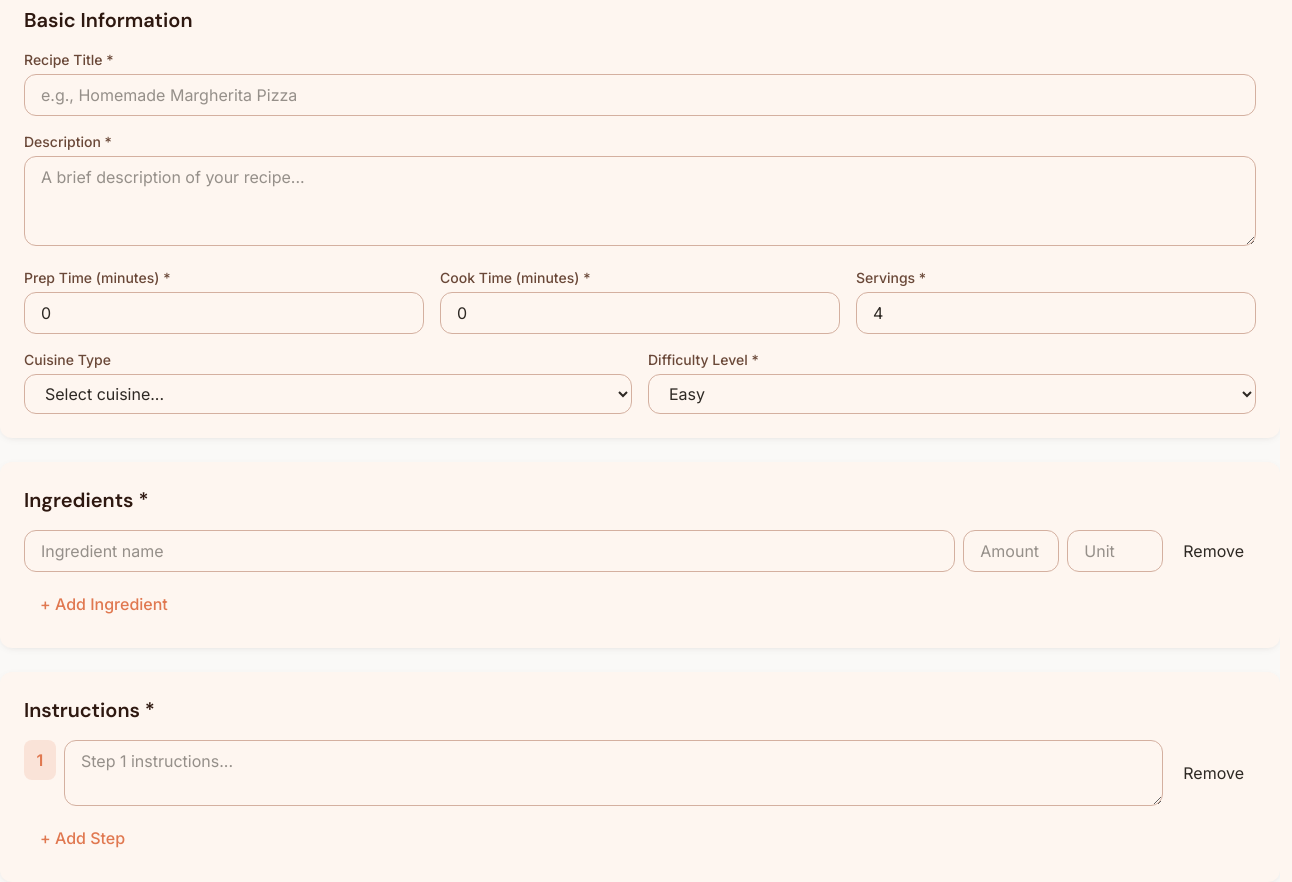
RecipeForm › Validation › should show error for empty title
Note: Fill in required fields except title
Step 1. Type "Test description" into the text box with placeholder "A brief description of your recipe..." → (640,201), box left=24, top=156, right=1256, bottom=246
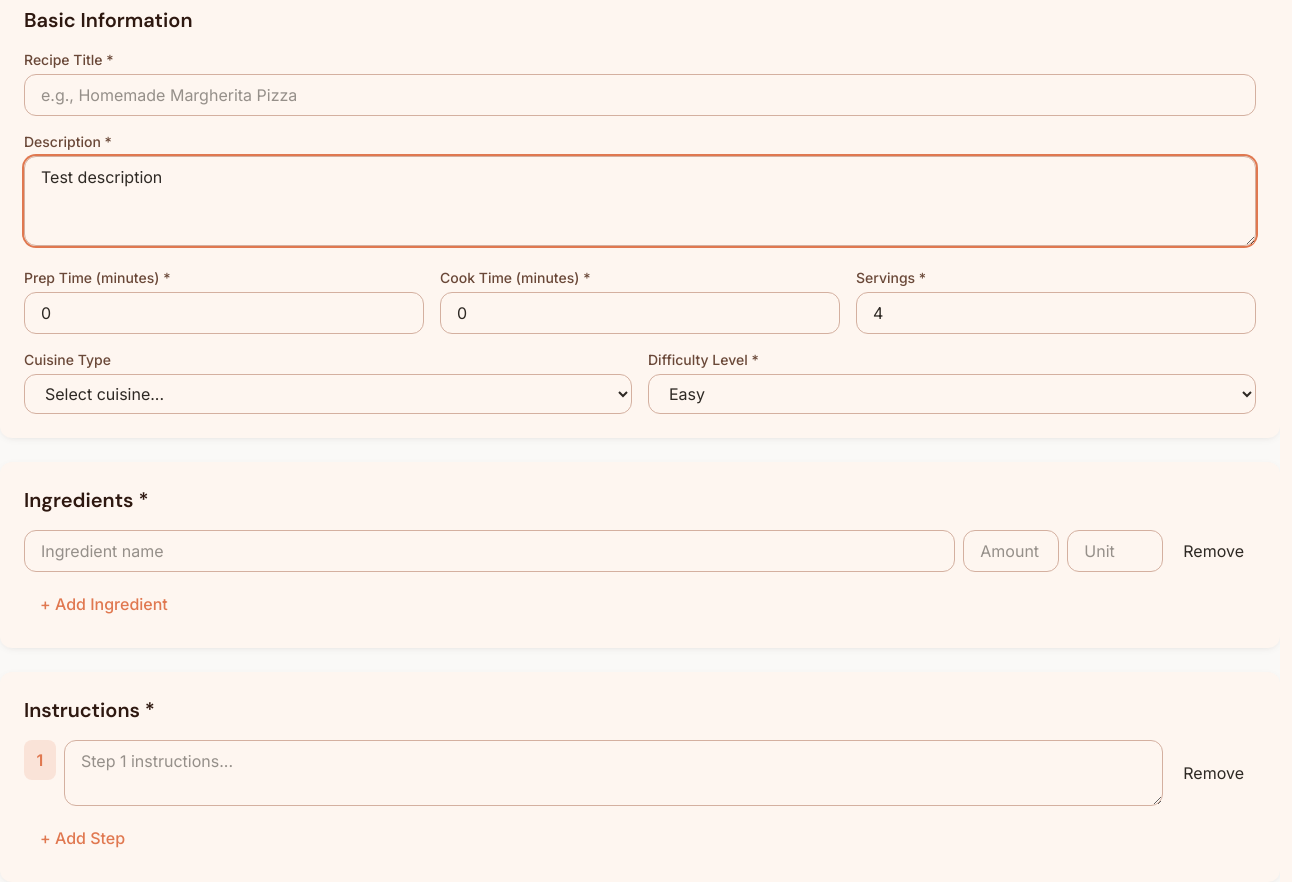
Step 2. Type "flour" into the field with placeholder "Ingredient name" → (490,551), box left=24, top=530, right=955, bottom=572
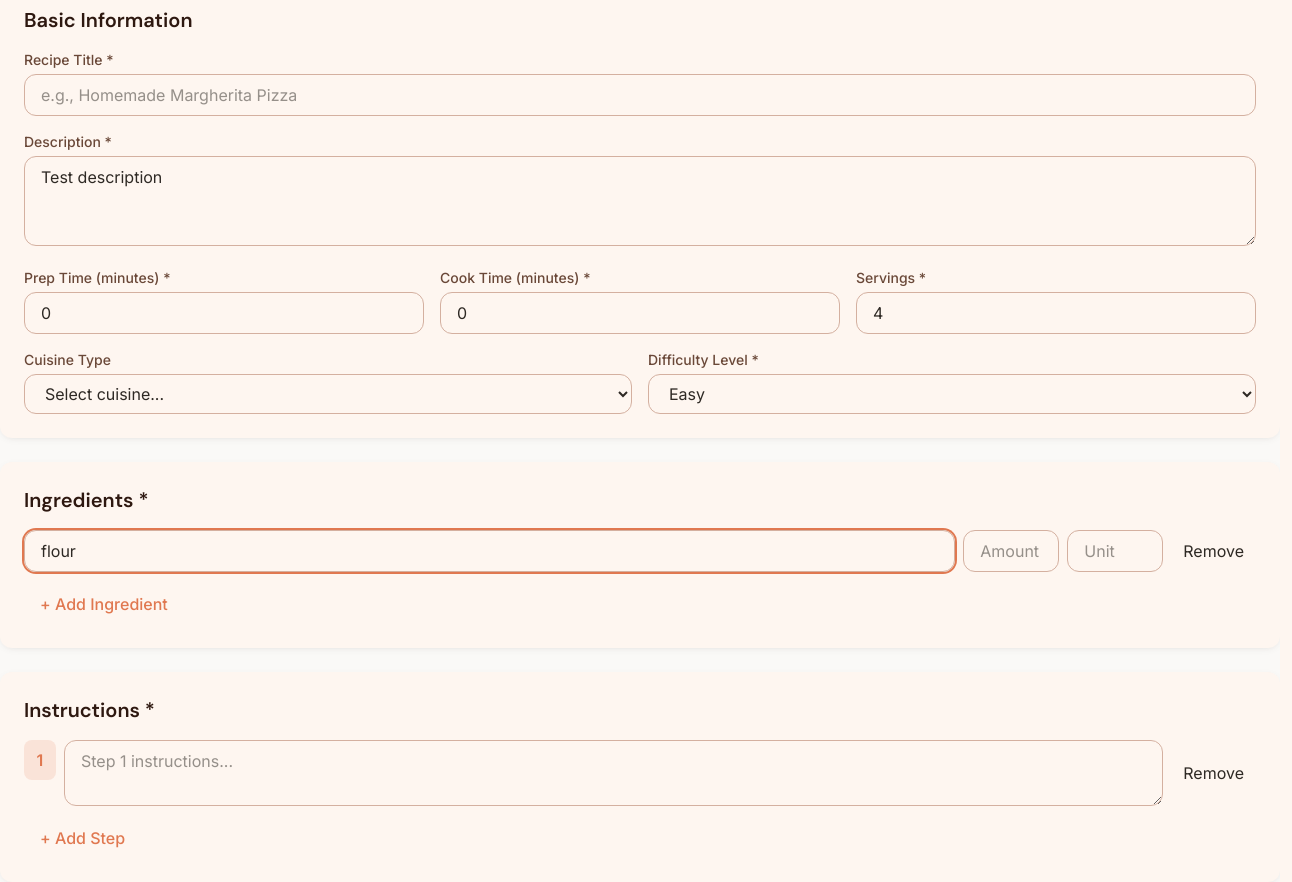
Step 3. Type "2" into the field with placeholder "Amount" → (1011,551), box left=963, top=530, right=1059, bottom=572
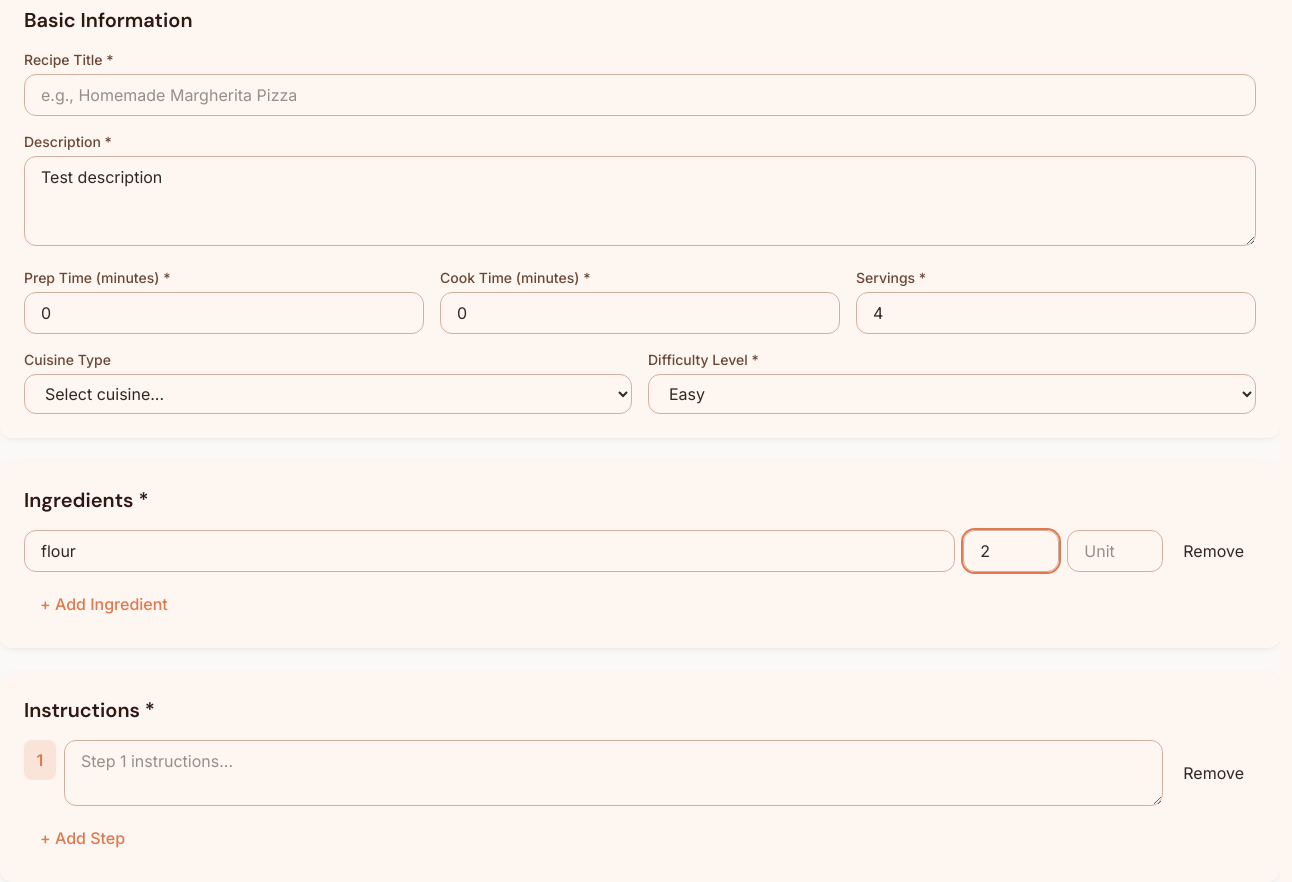
Step 4. Type "Mix" into the text box with placeholder "Step 1 instructions..." → (614,773), box left=64, top=740, right=1163, bottom=806
(page scrolled)
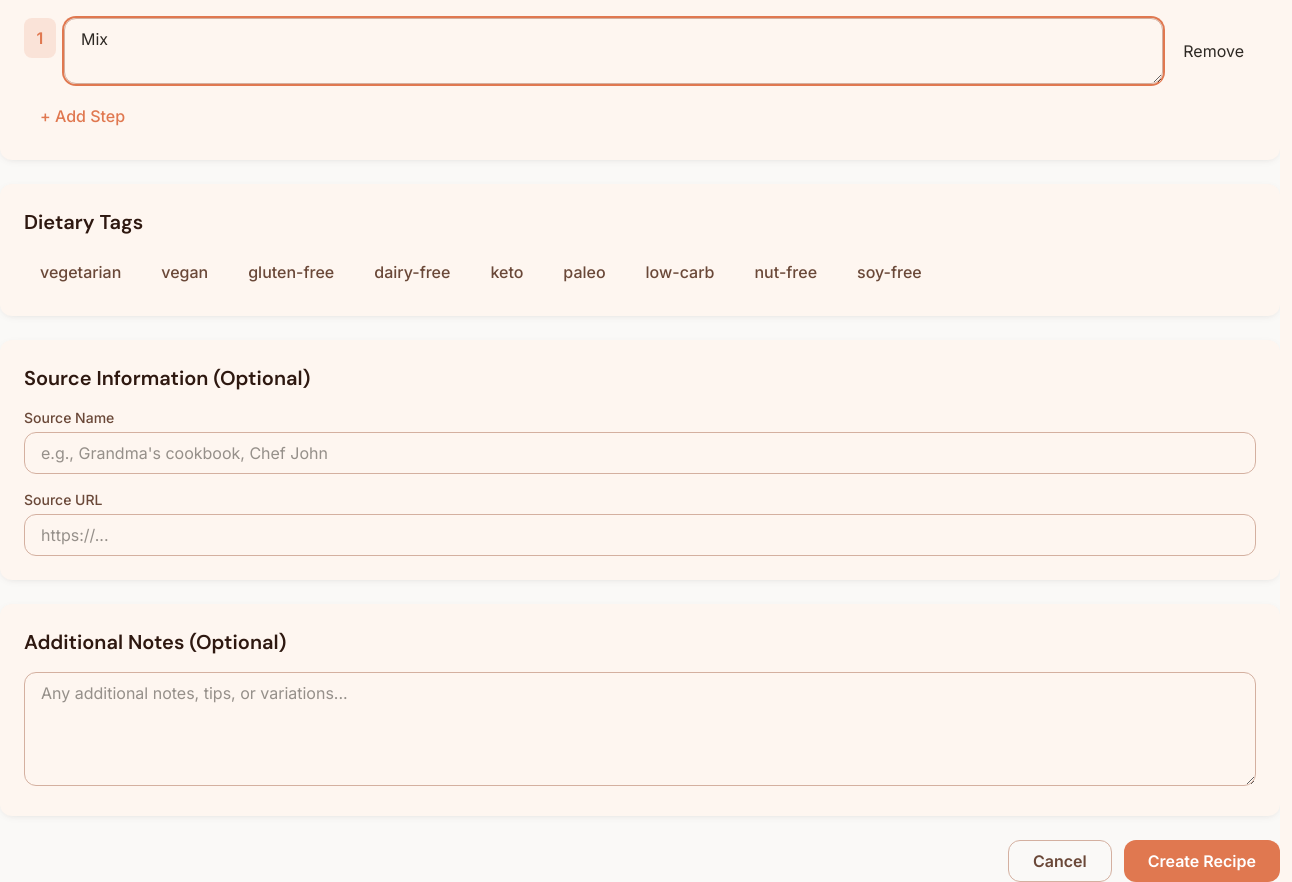
Step 5. Click the button "Create Recipe" → (1202,861), box left=1124, top=840, right=1280, bottom=881
(page scrolled)
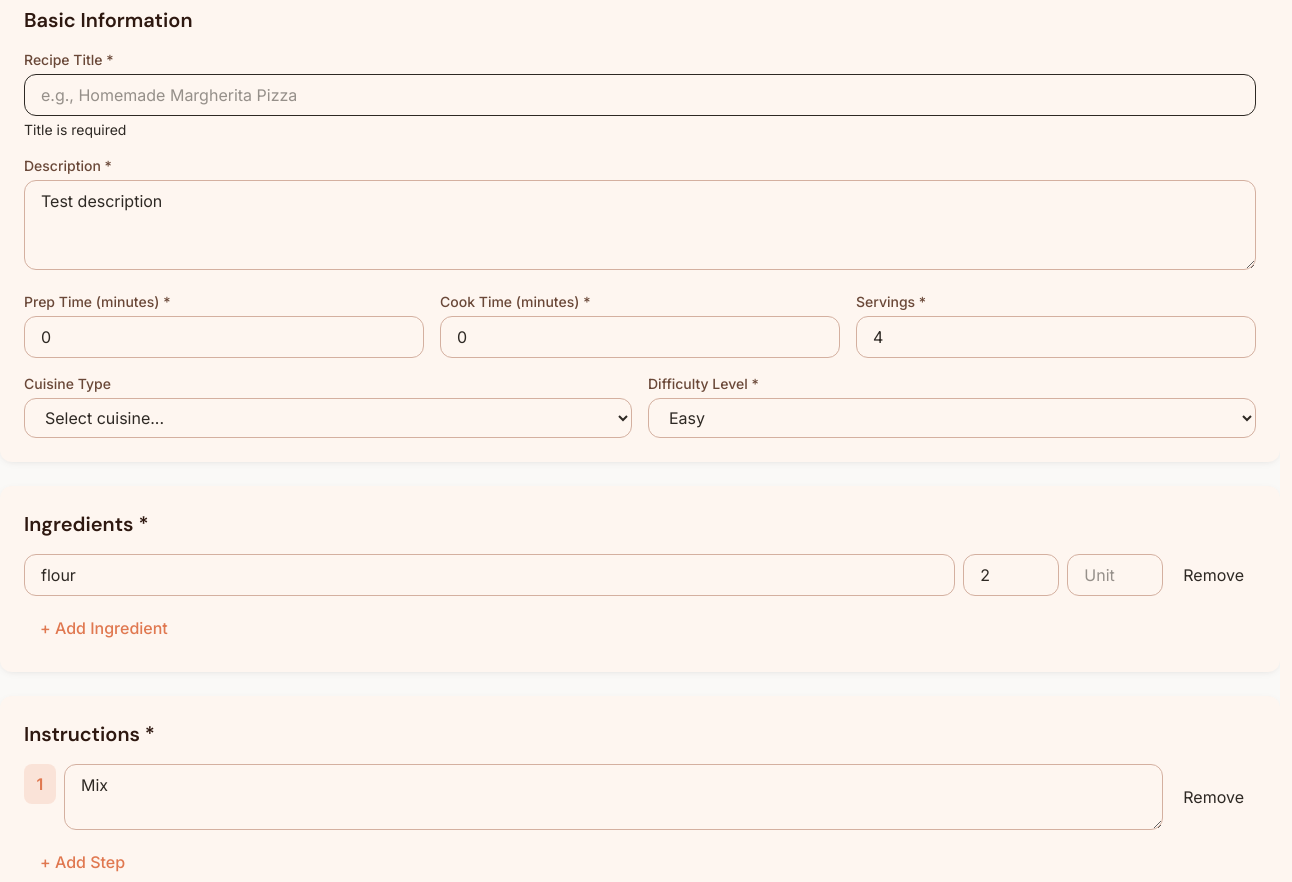
Check: the text "Title is required" is shown, box left=24, top=121, right=126, bottom=138
